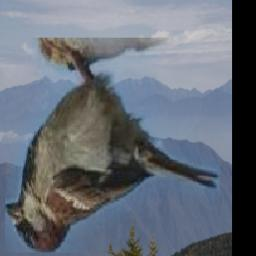Sparrow: (5, 38, 220, 253)
